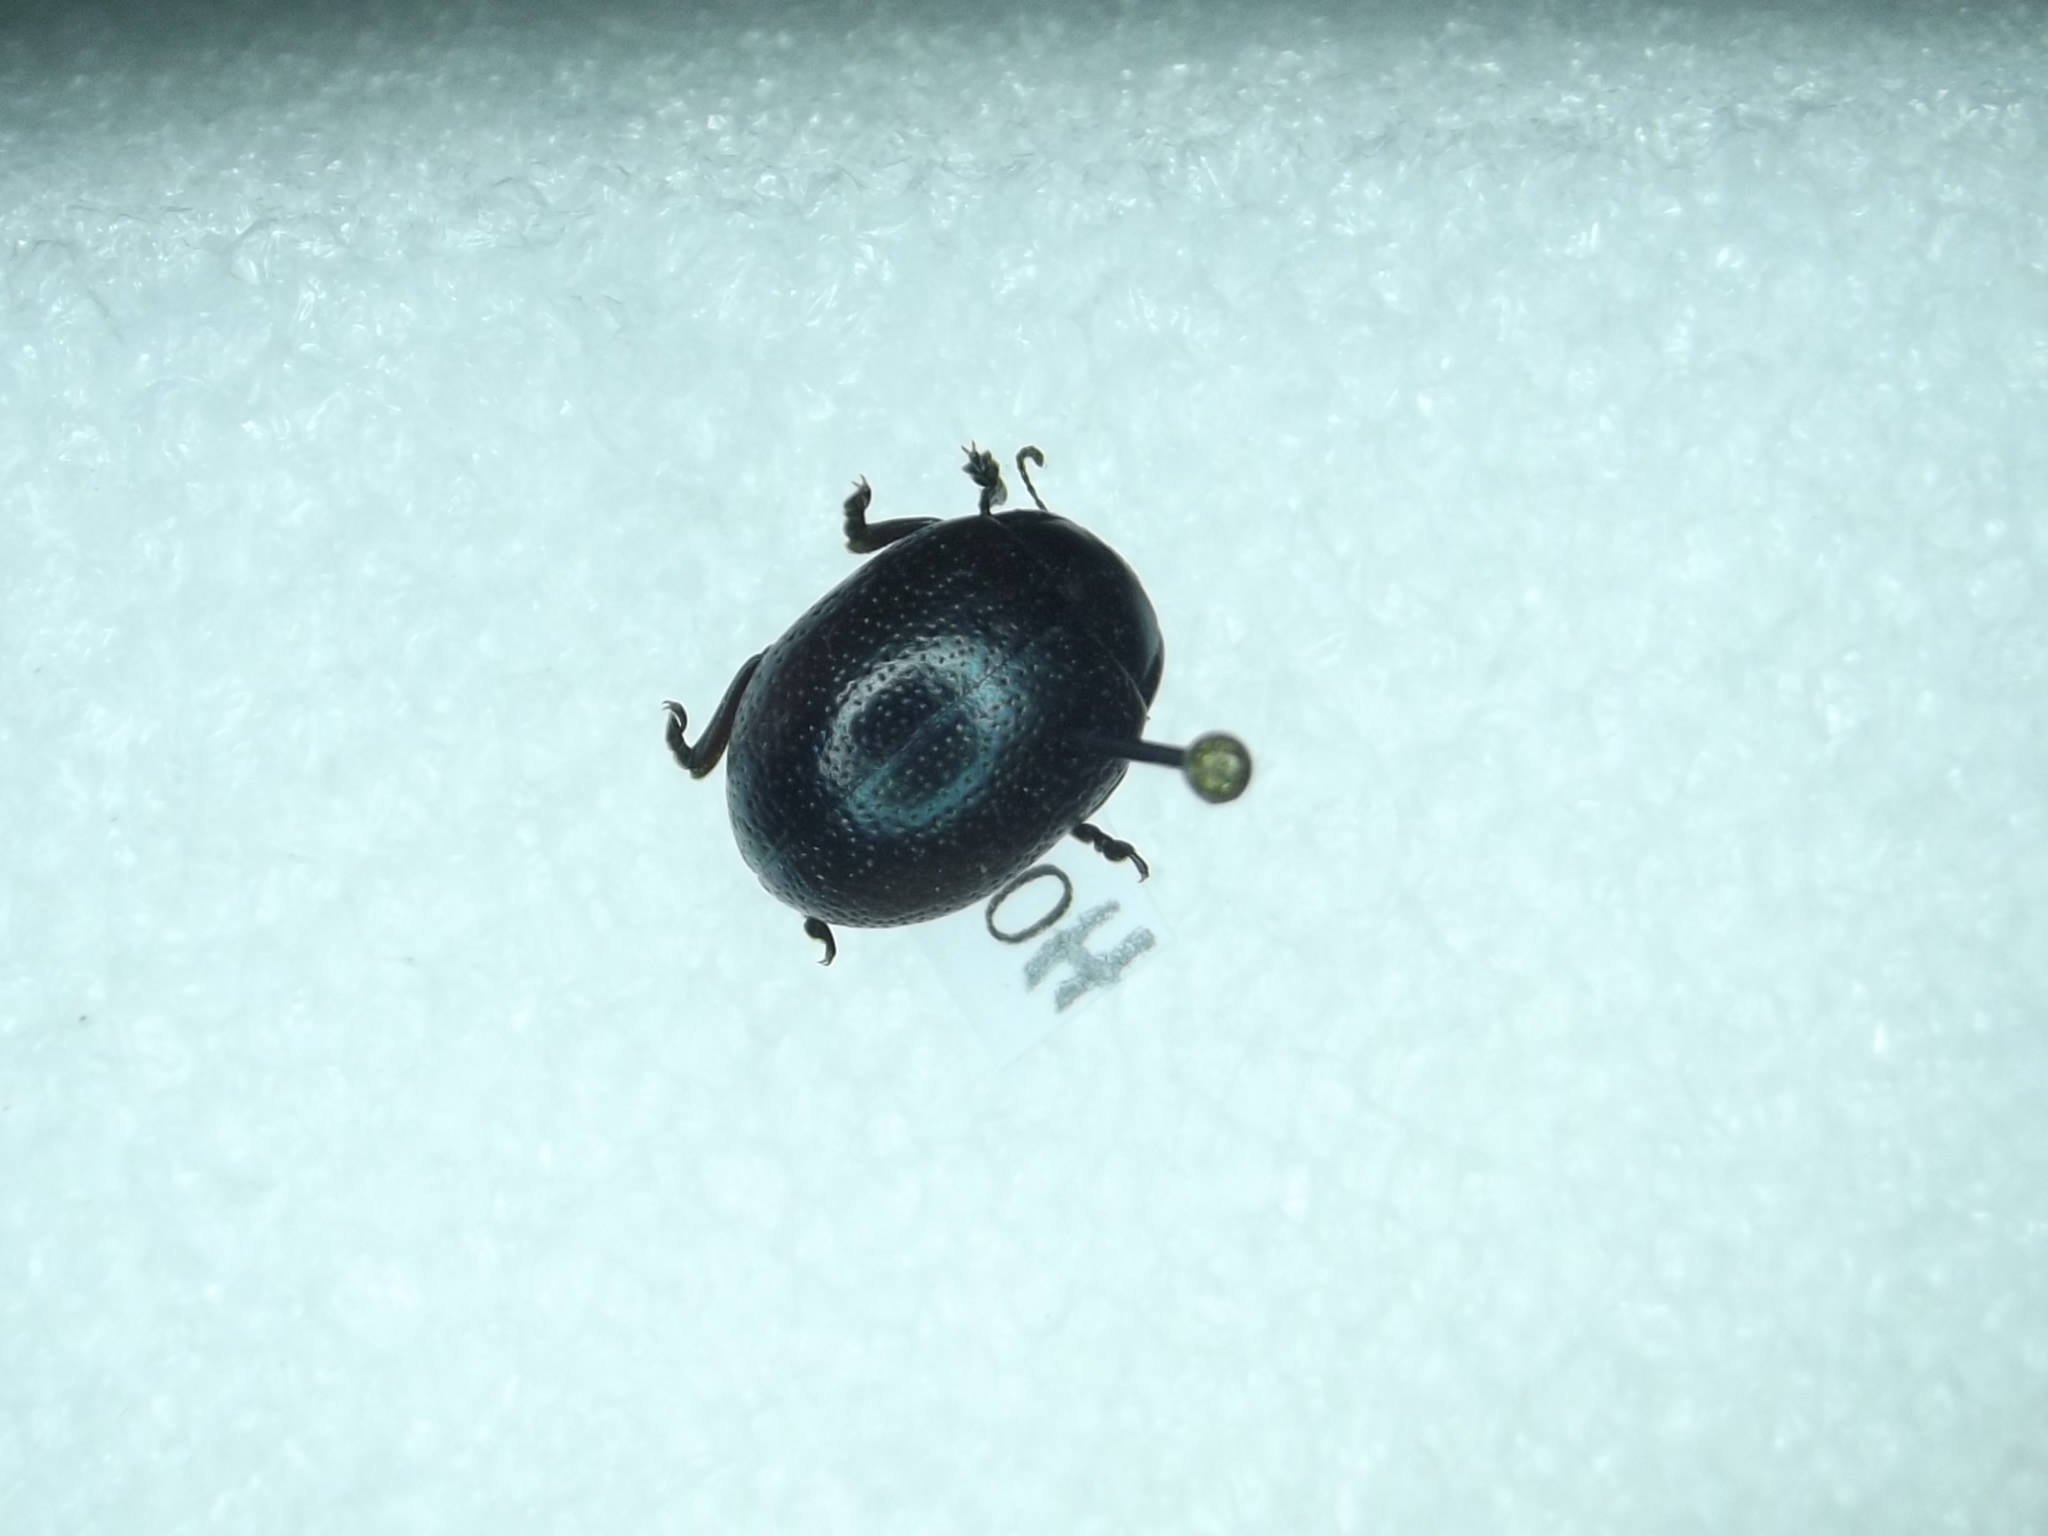Chrysolina_oricalcia: (645, 440, 1168, 970)
